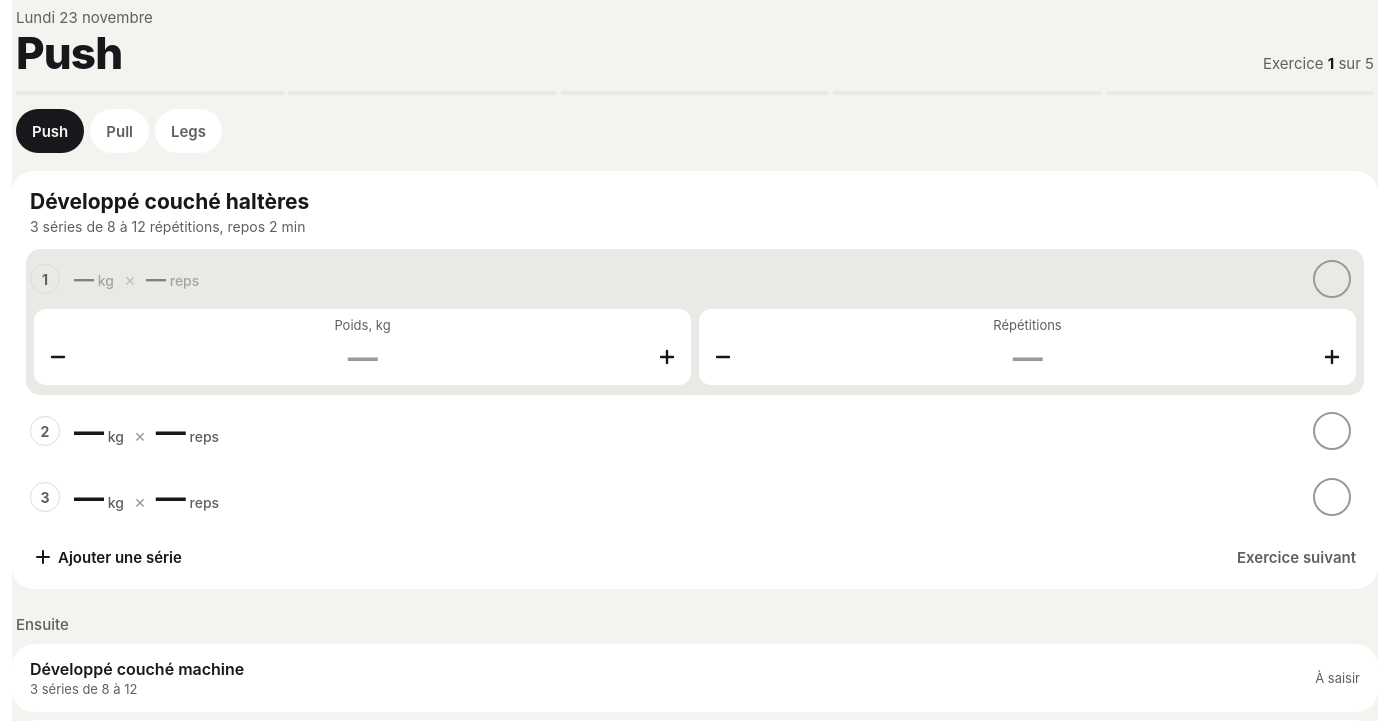
Test: SessionPage › permet de choisir une autre séance avant de commencer
The image size is (1390, 721).
Expected: the heading "Push" is shown, [16,31,122,75]
Click the button "Legs" at (188, 131), box [155,109,222,153]
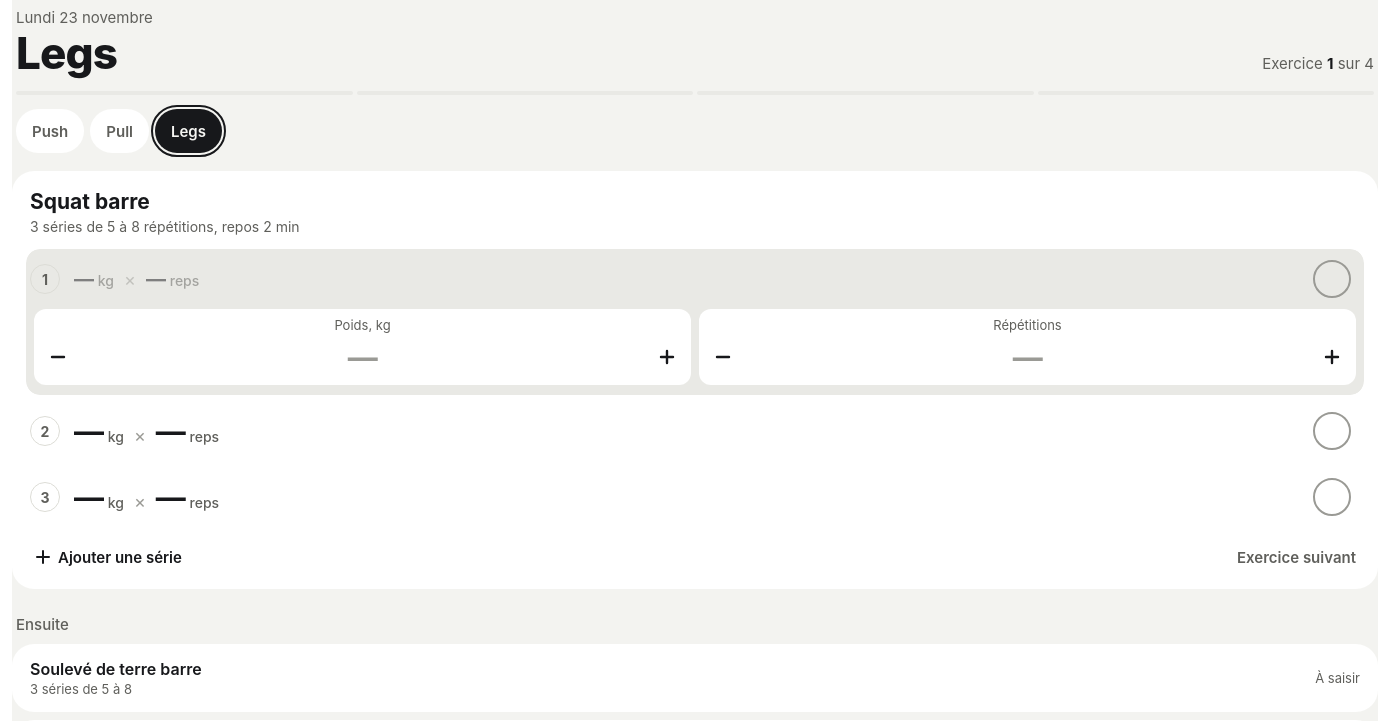
Now the heading "Legs" is shown, box [16,31,117,75]
